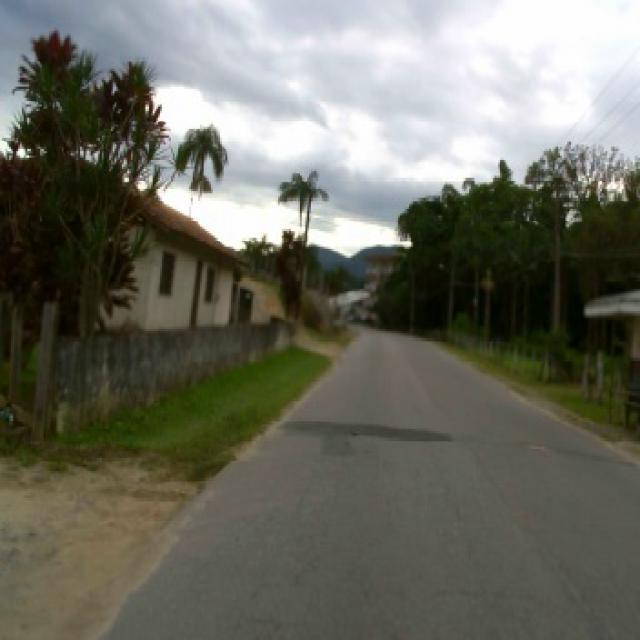Poth-hole: (522, 438, 553, 449), (351, 428, 362, 436)
